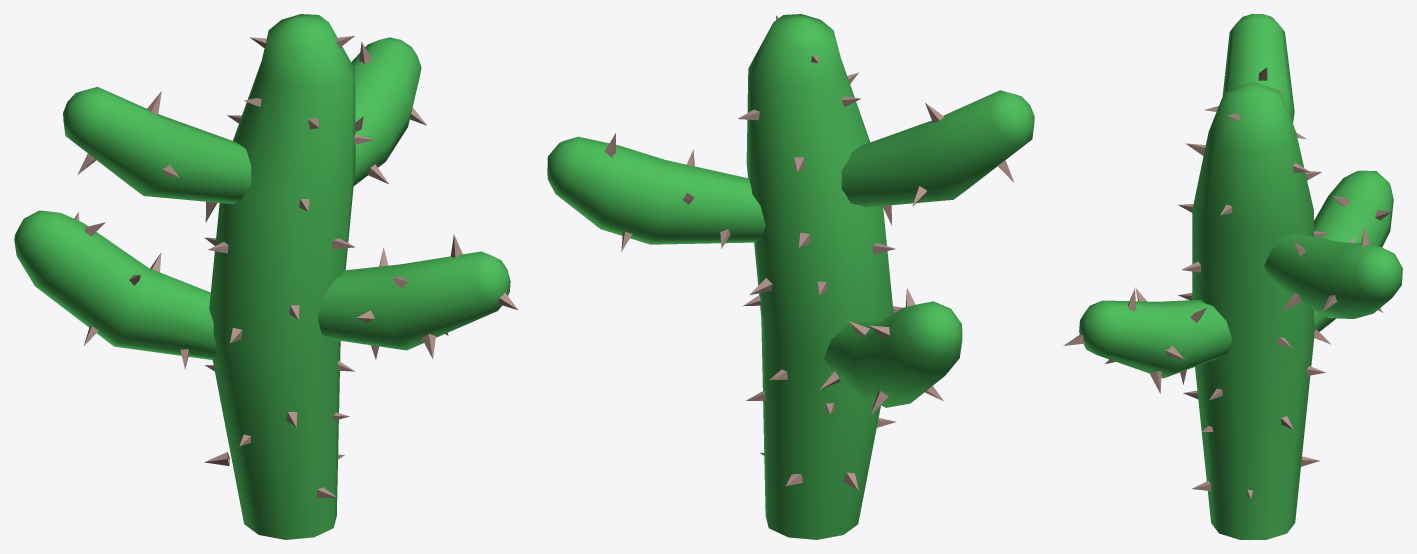
The model's file is Cactus2.fbx.
The picture shows the model from 3 angles, left to right: view 1: azimuth 30°, elevation 25°; view 2: azimuth 150°, elevation 25°; view 3: azimuth 270°, elevation 25°; orthographic projection. The views are drawn at different scales.
Visible parts, largest first — view 1: Cactus2.001; view 2: Cactus2.001; view 3: Cactus2.001.
Boxes of the visible parts, <box> form: Cactus2.001: <box>14,14,518,539</box>; Cactus2.001: <box>547,14,1034,539</box>; Cactus2.001: <box>1063,14,1402,539</box>.
Bounding box in the file's own units: 1.95 × 1.56 × 2.24.
